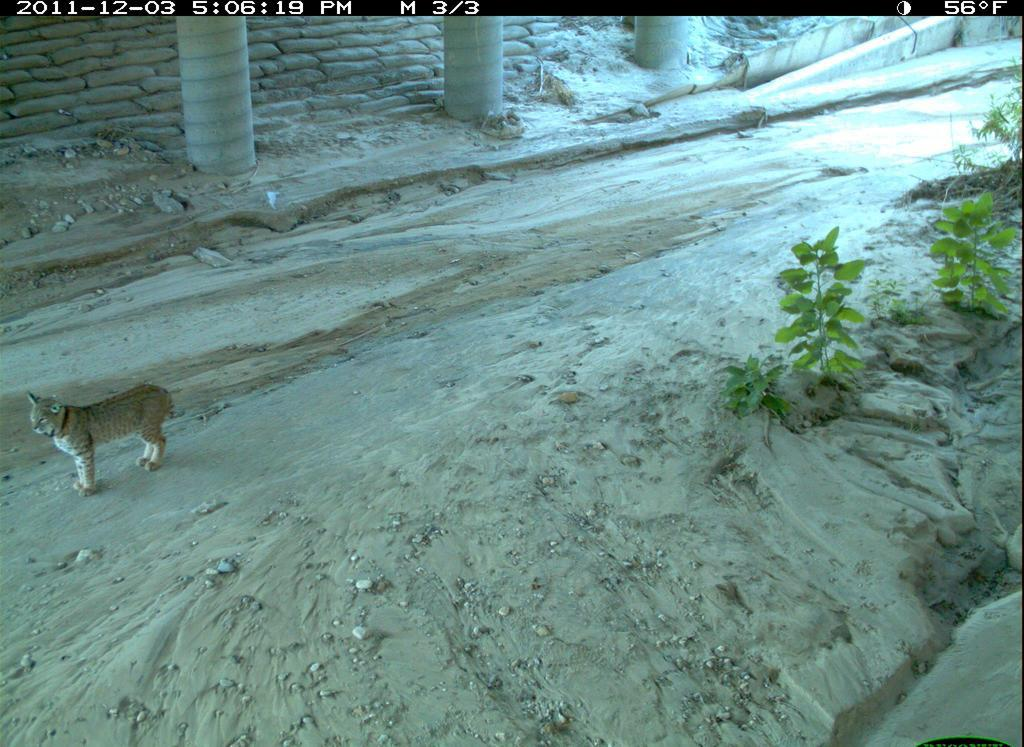bobcat: (22, 387, 194, 502)
